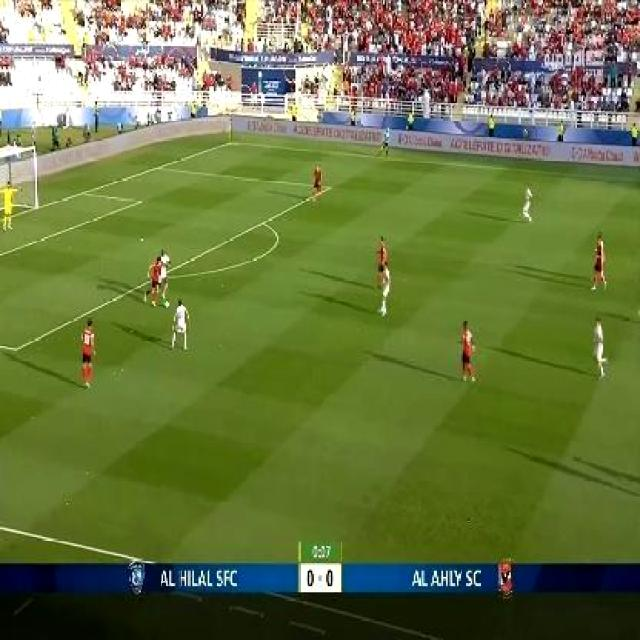bigarea_bottom_inner: (6, 335, 25, 360)
bigarea_top_inner: (320, 178, 334, 196)
bigarea_top_outter: (151, 158, 163, 172)
corner: (221, 136, 237, 146)
smallarea_top_inner: (132, 192, 146, 208)
smallarea_top_outter: (76, 182, 90, 198)
top_arc_area_intersection: (254, 212, 269, 231)
